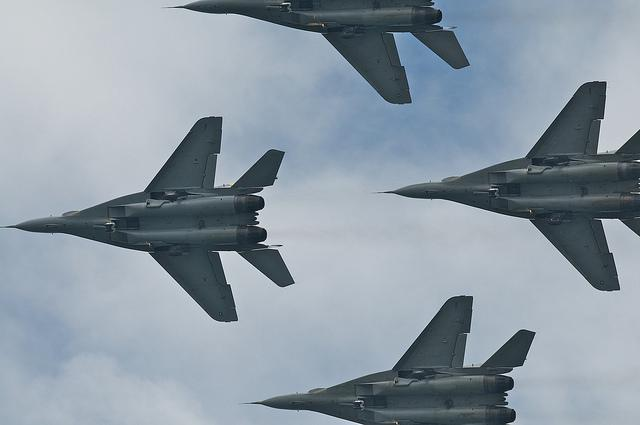airplane: (1, 115, 295, 325), (360, 81, 640, 292), (229, 295, 546, 425), (164, 1, 472, 106)
